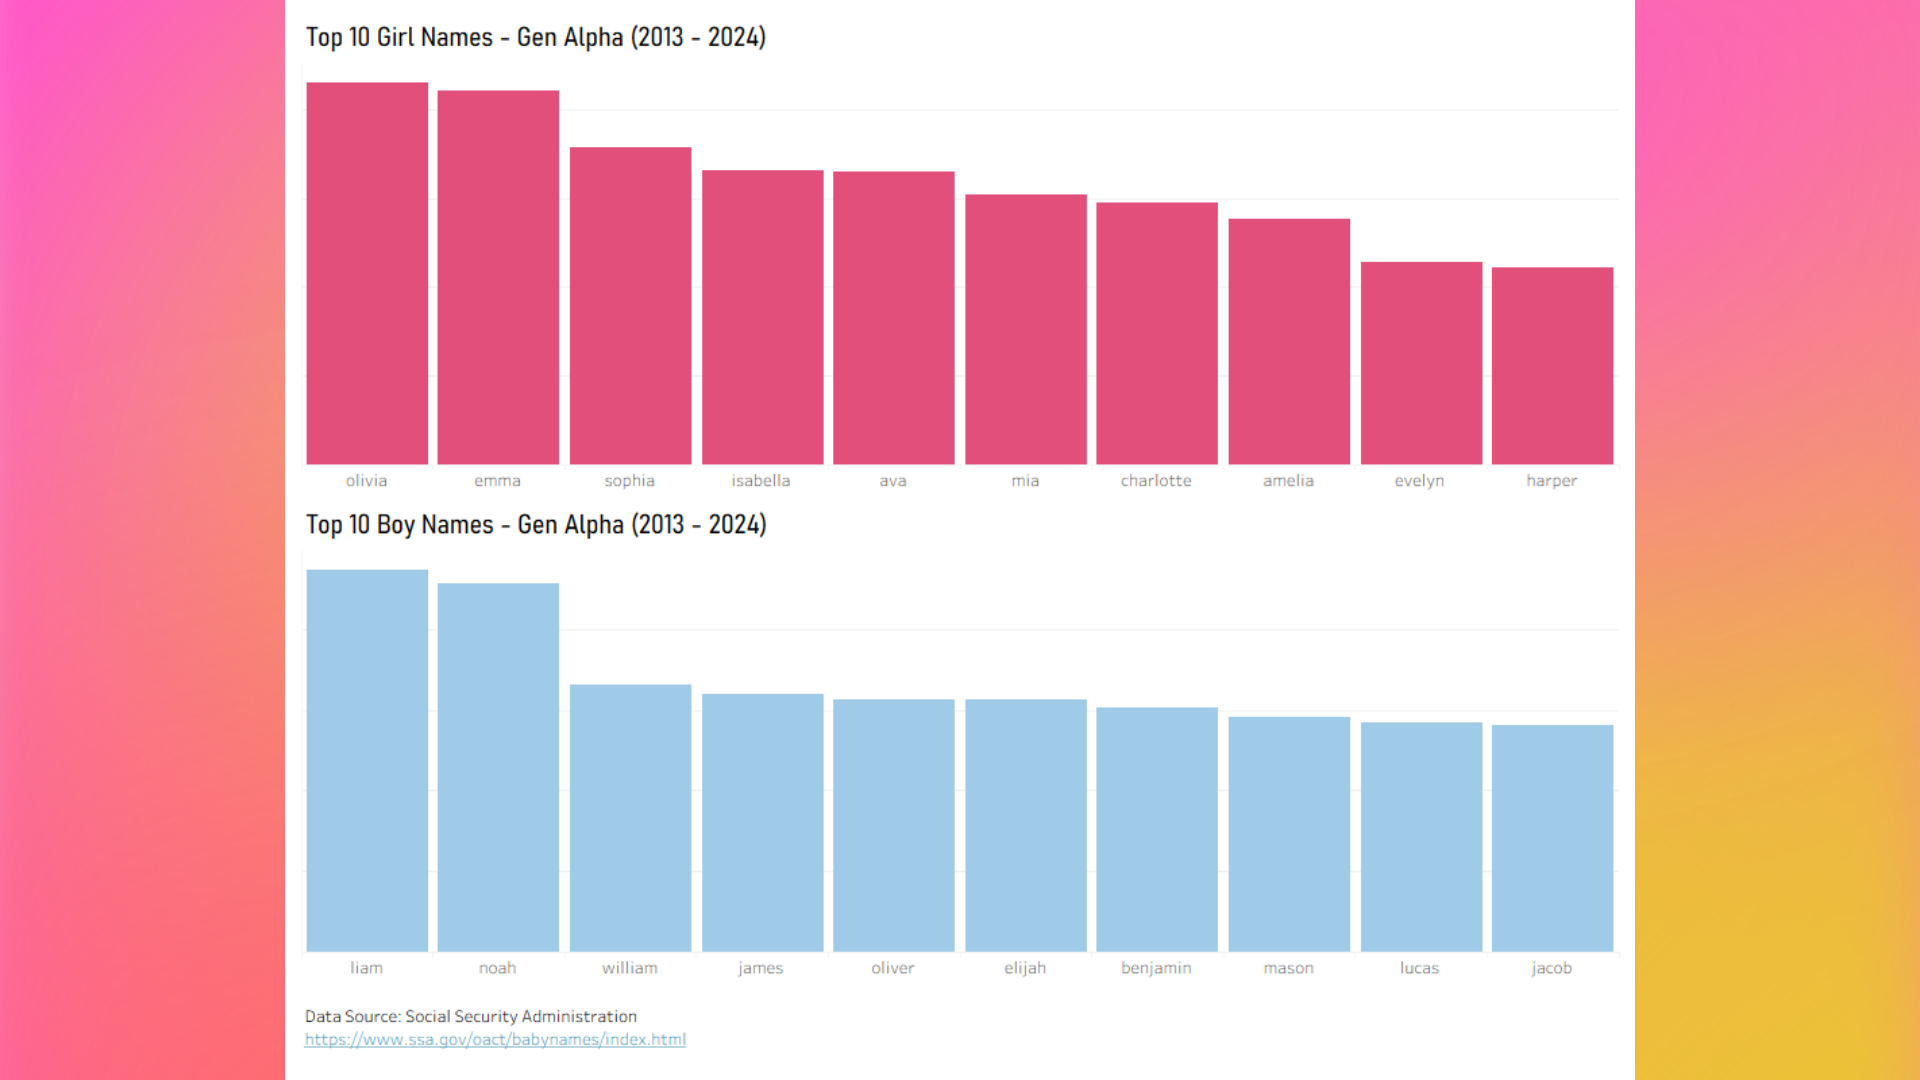

What the dashboard file says about the page in this screenshot:
{"tool":"tableau","page":{"name":"Top 10 Baby Names Gen Alpha","canvas":[1000,800],"ordinal":1},"visuals":[{"type":"worksheet","title":"Top 10 Girl Names - Gen Alpha (2010 - 2024)","mark":"Bar","rows":["count"],"cols":["name"],"box":[8,8,984,361]},{"type":"worksheet","title":"Top 10 Boy Names - Gen Alpha (2010 - 2024)","mark":"Bar","rows":["count"],"cols":["name"],"box":[8,369,984,361]},{"type":"text","box":[8,730,984,62]}]}

Visuals, with their boxes on the page's 1000x800 design canvas (x1, y1, x2, y2). These are canvas units, not pixel positions in the 1920x1080 screenshot, which may show the page scaled, cropped or inside an application window:
"Top 10 Girl Names - Gen Alpha (2010 - 2024)" worksheet (Bar marks): {"left": 8, "top": 8, "right": 992, "bottom": 369}
"Top 10 Boy Names - Gen Alpha (2010 - 2024)" worksheet (Bar marks): {"left": 8, "top": 369, "right": 992, "bottom": 730}
text: {"left": 8, "top": 730, "right": 992, "bottom": 792}
